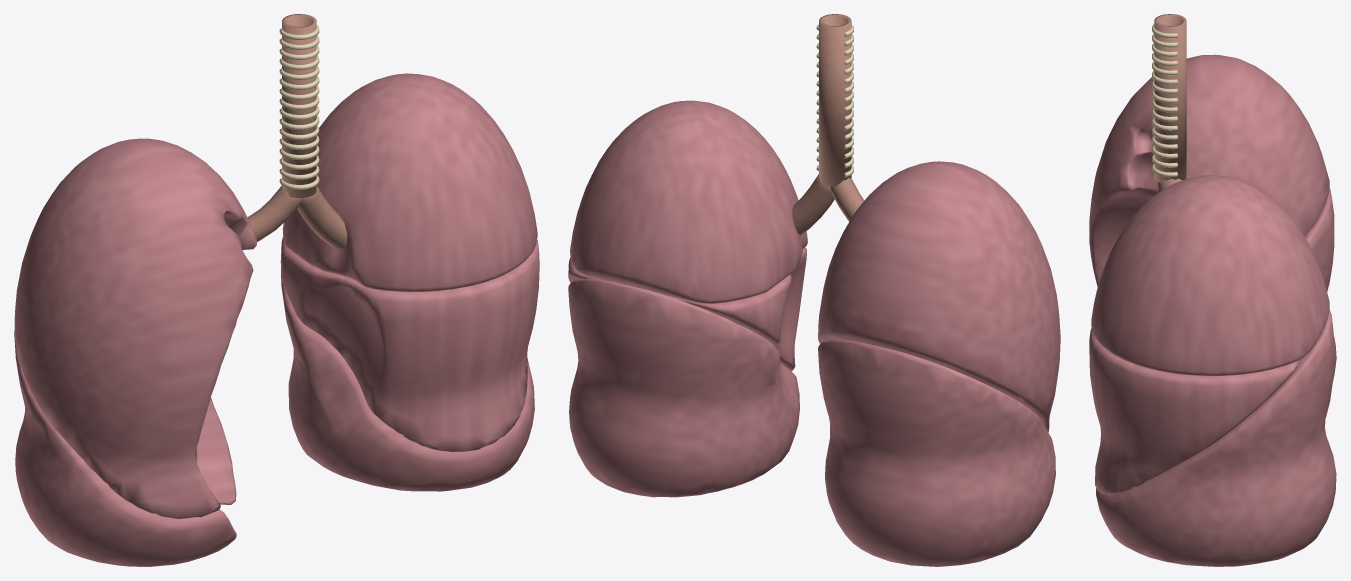
File: lungs-with-trachea-respiratory-system.glb
3 views of the same model, side by side, from view 1: azimuth 30°, elevation 25°; view 2: azimuth 150°, elevation 25°; view 3: azimuth 270°, elevation 25° (orthographic). The views are drawn at different scales.
Visible parts, largest first — view 1: Left lung superior lobe, Right lung superior lobe, Right lung middle lobe, Left lung inferior lobe, Right lung inferior lobe, Tracheal wall, Right main bronchus, Left main bronchus; view 2: Left lung inferior lobe, Left lung superior lobe, Right lung inferior lobe, Right lung superior lobe, Tracheal wall, Right lung middle lobe, Right main bronchus, Left main bronchus; view 3: Right lung superior lobe, Right lung inferior lobe, Left lung superior lobe, Right lung middle lobe, Tracheal wall, Left lung inferior lobe.
Boxes of the visible parts, x1,y1,x2,y2 form: Left lung superior lobe: (14,138,256,519); Right lung superior lobe: (282,73,537,291); Right lung middle lobe: (280,237,539,451); Left lung inferior lobe: (14,331,236,566); Right lung inferior lobe: (281,269,534,491); Tracheal wall: (282,14,316,197); Right main bronchus: (297,185,347,249); Left main bronchus: (242,185,301,250); Left lung inferior lobe: (818,339,1055,566); Left lung superior lobe: (818,161,1060,432); Right lung inferior lobe: (568,278,799,497); Right lung superior lobe: (570,100,807,303); Tracheal wall: (819,14,851,186); Right lung middle lobe: (568,247,806,371); Right main bronchus: (792,174,834,235); Left main bronchus: (830,178,864,221); Right lung superior lobe: (1091,175,1329,375); Right lung inferior lobe: (1096,310,1336,566); Left lung superior lobe: (1089,54,1329,286); Right lung middle lobe: (1089,328,1298,495); Tracheal wall: (1154,14,1186,183); Left lung inferior lobe: (1305,189,1336,382).
Size of the model in its own units: 0.29 by 0.2769 by 0.1371.
Materials: 3 (3 with a texture image).
